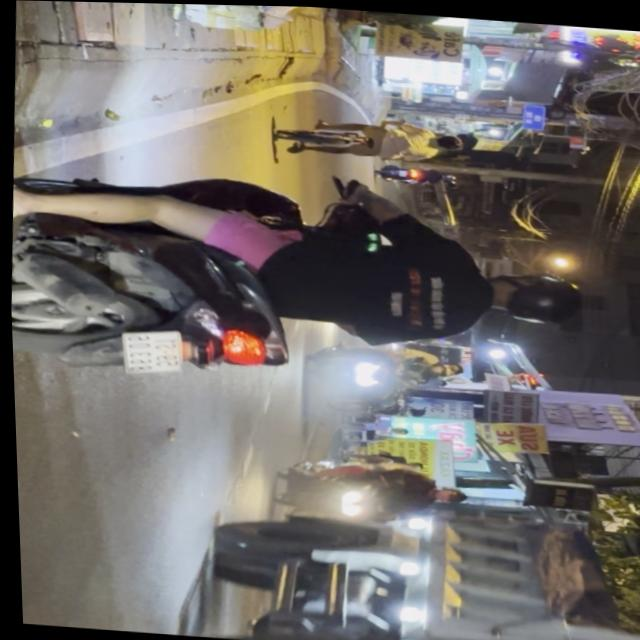helmet: (484, 267, 587, 328)
licenseplate: (4, 153, 599, 409)
nohelmet: (120, 327, 181, 376)
